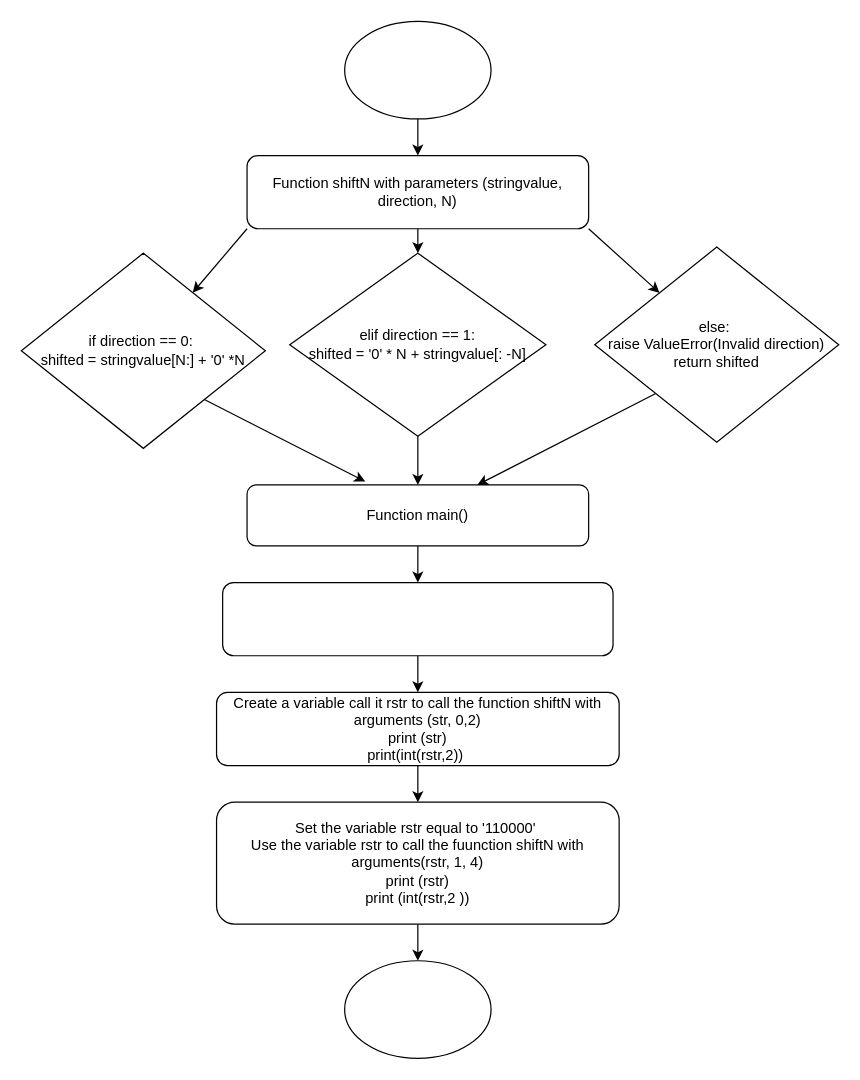
Some shapes in this 860 by 1080 pixel diagram are drawn without their labels. Each missing label, with the centre of its shape:
"Create a variable call it str set it equal to '001100' print (int(str,2))" belongs at point (417, 618).
"End" belongs at point (417, 1009).
"Start" belongs at point (417, 69).
